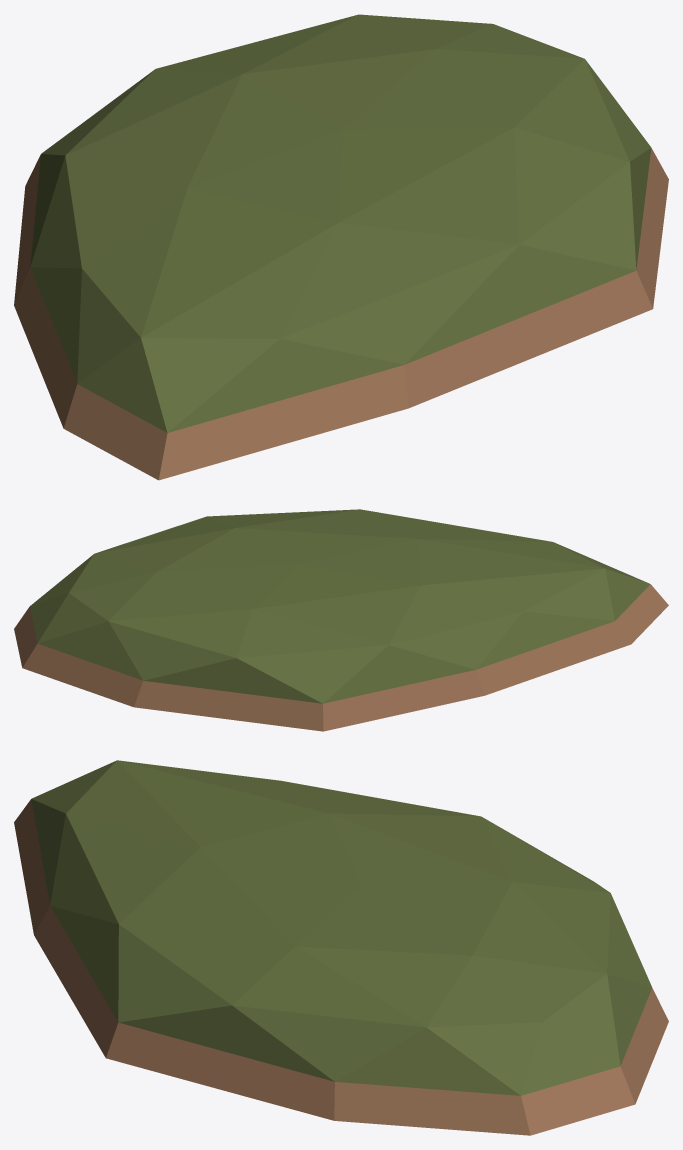
File: 2_2 Dirt_2.fbx
3 renders of one model, top to bottom at view 1: azimuth 30°, elevation 25°; view 2: azimuth 150°, elevation 25°; view 3: azimuth 270°, elevation 25°, orthographic. The views are drawn at different scales.
Parts seen in each view (by area): view 1: Dirt_2; view 2: Dirt_2; view 3: Dirt_2.
Part boxes in pixels (x1,y1,x2,y2): Dirt_2: (14, 14, 668, 480); Dirt_2: (14, 509, 668, 731); Dirt_2: (14, 760, 668, 1135).
Bounding box in the file's own units: 2433 × 358 × 2097.
